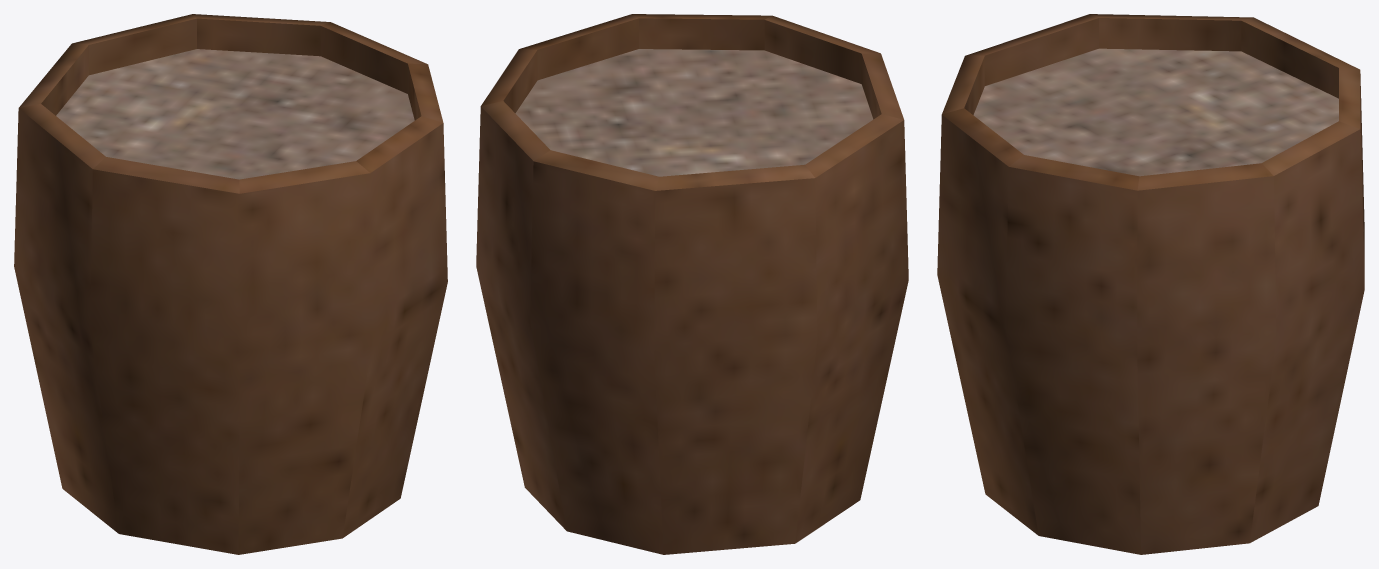
Rendered from MS_Pot_1.fbx.
The picture shows the model from 3 angles, left to right: view 1: azimuth 30°, elevation 25°; view 2: azimuth 150°, elevation 25°; view 3: azimuth 270°, elevation 25°; orthographic projection.
Parts seen in each view (by area): view 1: MSH_Pot; view 2: MSH_Pot; view 3: MSH_Pot.
Boxes of the visible parts, x1,y1,x2,y2 form: MSH_Pot: (14, 14, 447, 554); MSH_Pot: (476, 14, 908, 554); MSH_Pot: (937, 14, 1364, 554).
Size of the model in its own units: 17.33 by 17.37 by 17.35.
